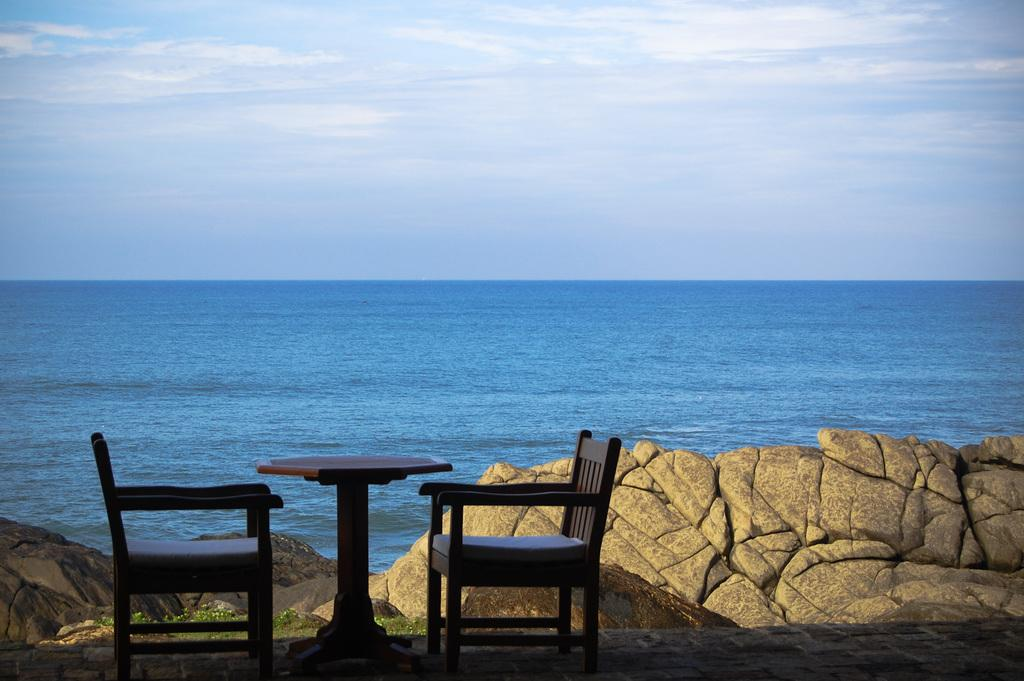Chair: (89, 431, 296, 675), (402, 461, 606, 681)
